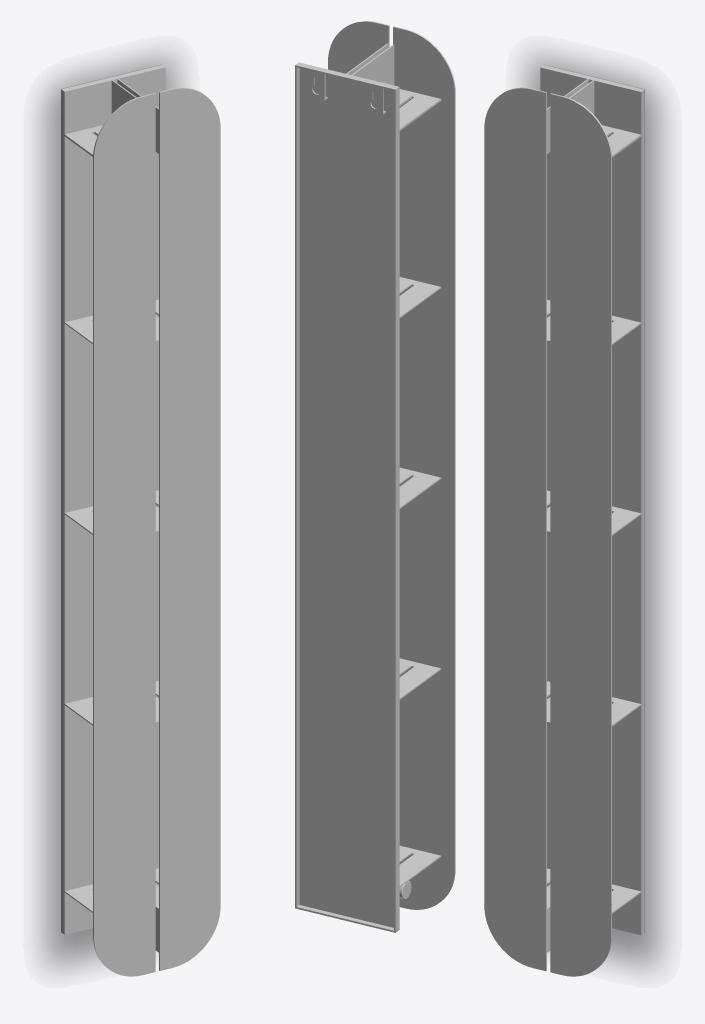
Rendered from round-prima.8b0f9dfae2.ar.glb.
3 renders of one model, left to right at view 1: azimuth 30°, elevation 25°; view 2: azimuth 150°, elevation 25°; view 3: azimuth 330°, elevation 25°, orthographic.
Visible parts, largest first — view 1: NAUO1, object 2; view 2: NAUO1; view 3: NAUO1, object 2.
Part boxes in pixels (left/top/right/bottom): NAUO1: left=61, top=64, right=220, bottom=976; object 2: left=39, top=54, right=182, bottom=969; NAUO1: left=295, top=21, right=455, bottom=932; NAUO1: left=484, top=64, right=644, bottom=976; object 2: left=522, top=54, right=665, bottom=969.
Size of the model in its own units: 0.2312 by 1.08 by 0.096.
Materials: 2 (1 with a texture image).
